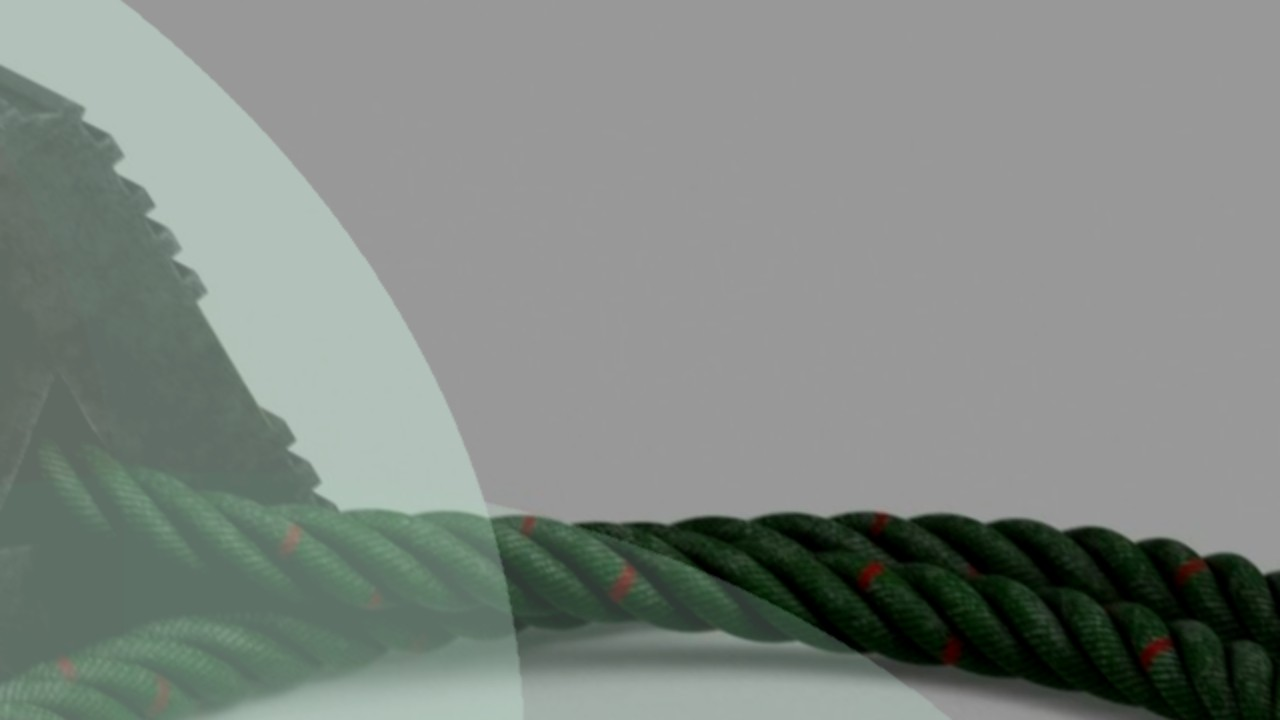chock: (0, 0, 392, 720)
